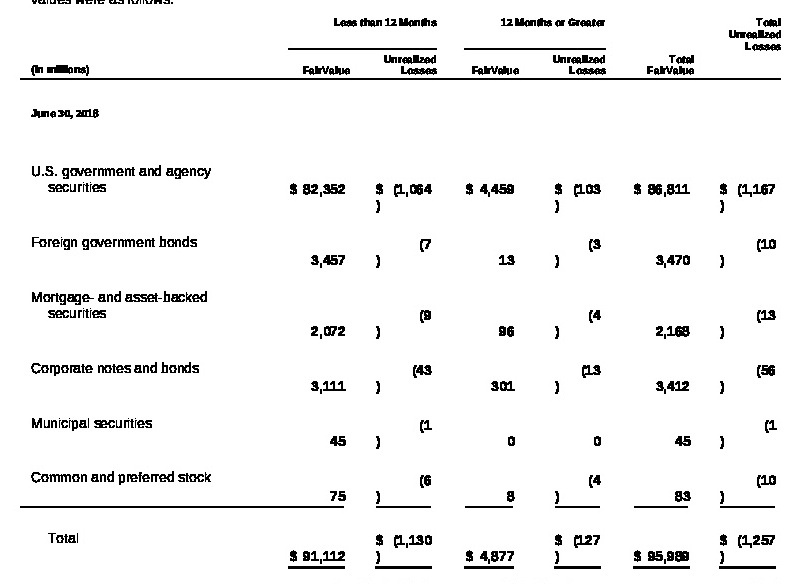table: (0, 0, 806, 584)
